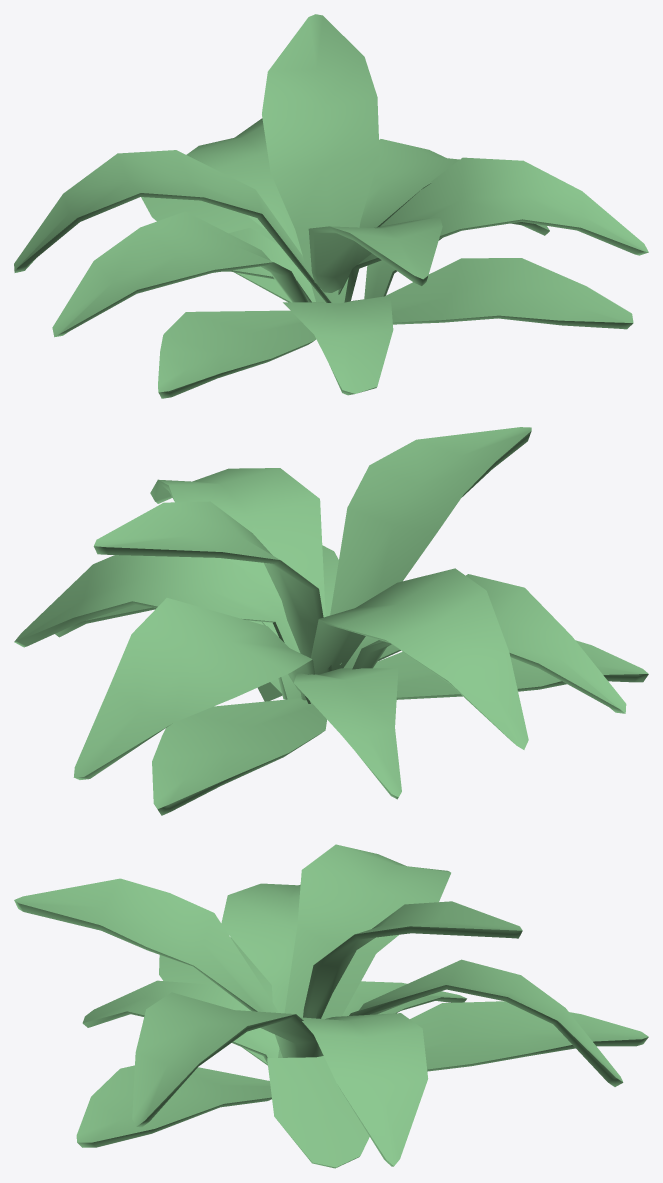
The model's file is Bush 01.glb.
3 views of the same model, one above another, from view 1: azimuth 30°, elevation 25°; view 2: azimuth 150°, elevation 25°; view 3: azimuth 270°, elevation 25° (orthographic). The views are drawn at different scales.
Parts seen in each view (by area): view 1: Bush 01; view 2: Bush 01; view 3: Bush 01.
Boxes of the visible parts, x1,y1,x2,y2 form: Bush 01: (14,14,648,398); Bush 01: (14,427,648,815); Bush 01: (14,844,648,1168).
Size of the model in its own units: 4.45 by 1.78 by 4.78.
